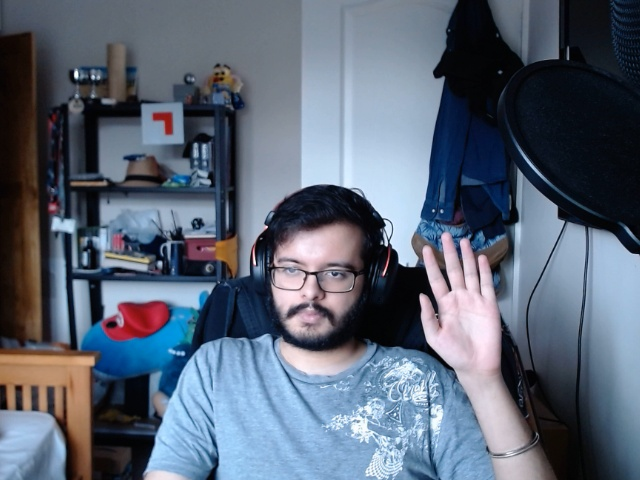Hello: (409, 224, 511, 375)
